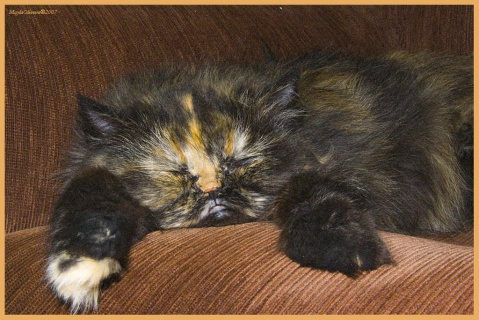Cat: (30, 44, 473, 311)
